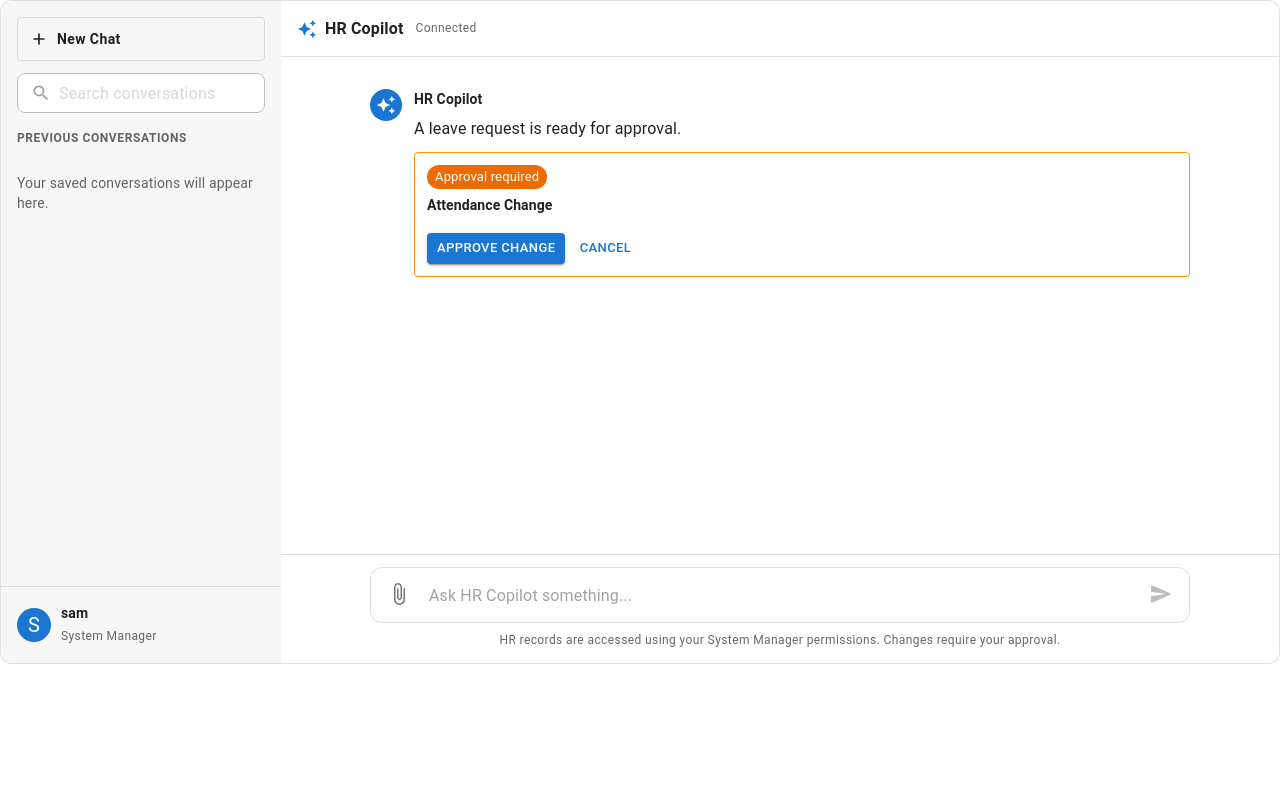
Scenario: restores a pending approval and confirms its completion
This screenshot has width=1280, height=800.
Expected: the text "A leave request is ready for approval." is shown, [414,119,681,138]
What coordinates should you click on to do the following:
click the button "Approve change"
I would click on:
 (496, 248)
Its box is [427,233,565,264].
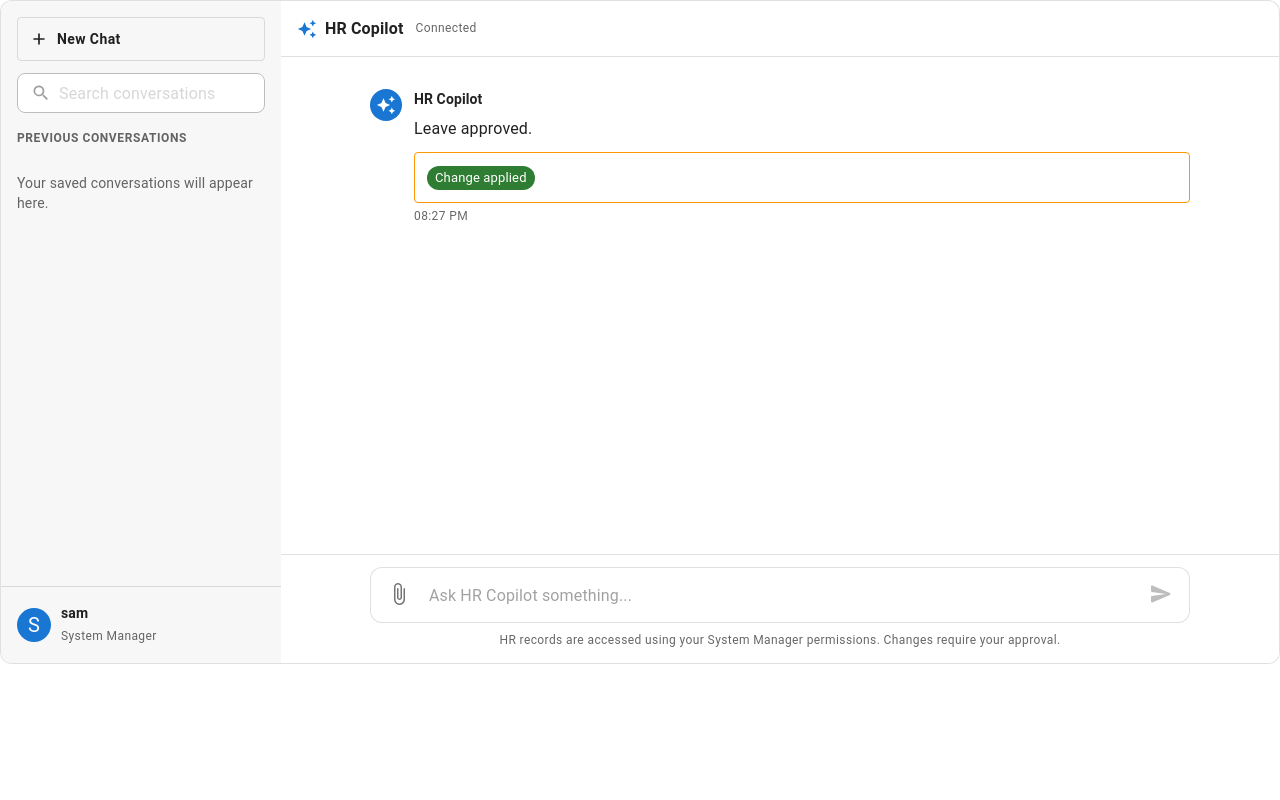
Now the text "Leave approved." is shown, box [414,119,532,138]
